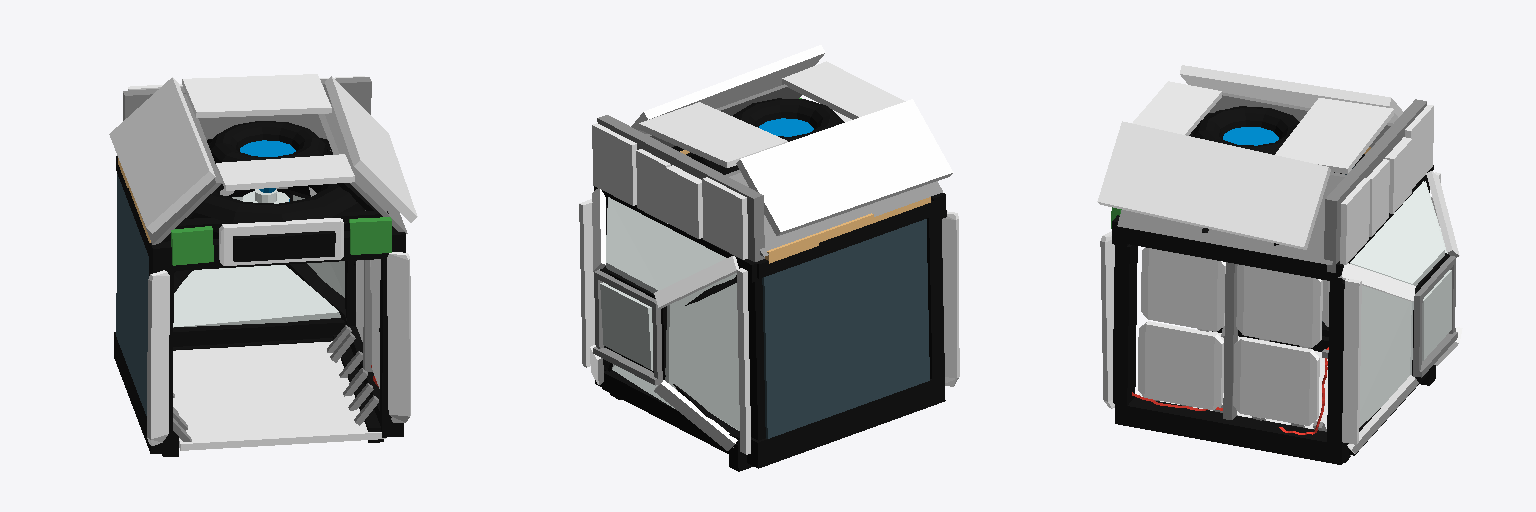
3 renders of one model, left to right at view 1: azimuth 30°, elevation 25°; view 2: azimuth 150°, elevation 25°; view 3: azimuth 270°, elevation 25°, orthographic.
Parts seen in each view (by area): view 1: group[number redacted], group[number redacted], group[number redacted], group[number redacted], group[number redacted], group[number redacted], group[number redacted], group[number redacted], group[number redacted], group[number redacted], group[number redacted], group[number redacted] (+18 smaller); view 2: group[number redacted], group[number redacted], group[number redacted], group[number redacted], group[number redacted], group[number redacted], group[number redacted], group[number redacted], group[number redacted], group[number redacted], group[number redacted], group[number redacted] (+19 smaller); view 3: group[number redacted], group[number redacted], group[number redacted], group[number redacted], group[number redacted], group[number redacted], group[number redacted], group[number redacted], group[number redacted], group[number redacted], group[number redacted], group[number redacted] (+18 smaller).
Boxes of the visible parts, x1,y1,x2,y2 form: group[number redacted]: [109, 74, 417, 233]; group[number redacted]: [173, 341, 385, 450]; group[number redacted]: [173, 265, 340, 327]; group[number redacted]: [116, 174, 148, 415]; group[number redacted]: [190, 184, 364, 238]; group[number redacted]: [387, 252, 410, 422]; group[number redacted]: [147, 270, 169, 445]; group[number redacted]: [173, 318, 345, 346]; group[number redacted]: [210, 121, 326, 163]; group[number redacted]: [123, 77, 371, 150]; group[number redacted]: [233, 231, 335, 261]; group[number redacted]: [219, 218, 343, 265]; group[number redacted]: [631, 45, 953, 235]; group[number redacted]: [762, 219, 929, 438]; group[number redacted]: [665, 273, 739, 430]; group[number redacted]: [606, 197, 725, 293]; group[number redacted]: [747, 375, 945, 468]; group[number redacted]: [597, 115, 764, 261]; group[number redacted]: [600, 282, 652, 370]; group[number redacted]: [702, 177, 747, 259]; group[number redacted]: [592, 123, 636, 205]; group[number redacted]: [942, 211, 959, 386]; group[number redacted]: [755, 200, 933, 278]; group[number redacted]: [725, 170, 942, 256]; group[number redacted]: [1097, 65, 1402, 249]; group[number redacted]: [1138, 321, 1223, 409]; group[number redacted]: [1233, 337, 1319, 425]; group[number redacted]: [1115, 397, 1349, 464]; group[number redacted]: [1141, 247, 1225, 331]; group[number redacted]: [1236, 265, 1322, 347]; group[number redacted]: [1360, 285, 1413, 426]; group[number redacted]: [1350, 181, 1444, 285]; group[number redacted]: [1117, 172, 1345, 264]; group[number redacted]: [1113, 244, 1137, 405]; group[number redacted]: [1127, 228, 1326, 279]; group[number redacted]: [1324, 99, 1426, 272].
Size of the model in its own units: 1.08 by 1.02 by 1.14.